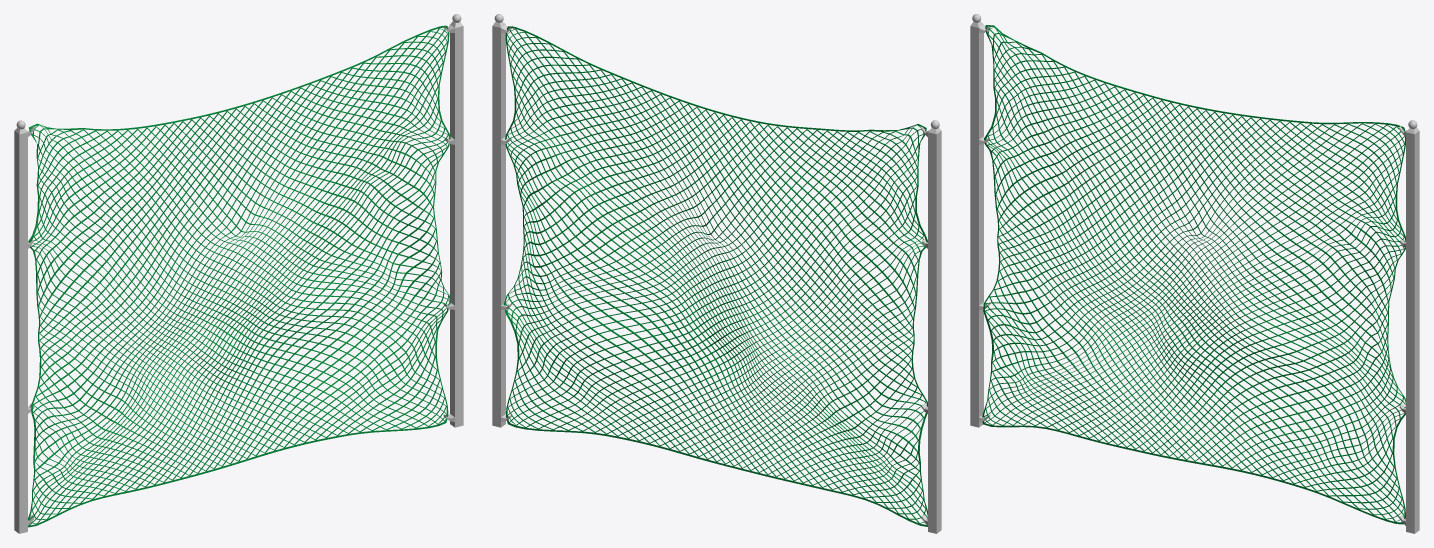
The model's file is baseballPracticeNet.fbx.
3 renders of one model, left to right at view 1: azimuth 30°, elevation 25°; view 2: azimuth 150°, elevation 25°; view 3: azimuth 330°, elevation 25°, orthographic.
Parts seen in each view (by area): view 1: net.004, Pillar; view 2: net.004, Pillar; view 3: net.004, Pillar.
Boxes of the visible parts, x1,y1,x2,y2 form: net.004: (28, 25, 450, 527); Pillar: (14, 14, 463, 533); net.004: (503, 26, 927, 526); Pillar: (492, 14, 941, 533); net.004: (982, 25, 1405, 524); Pillar: (970, 14, 1419, 533).
Bounding box in the file's own units: 906 × 800 × 46.05.
